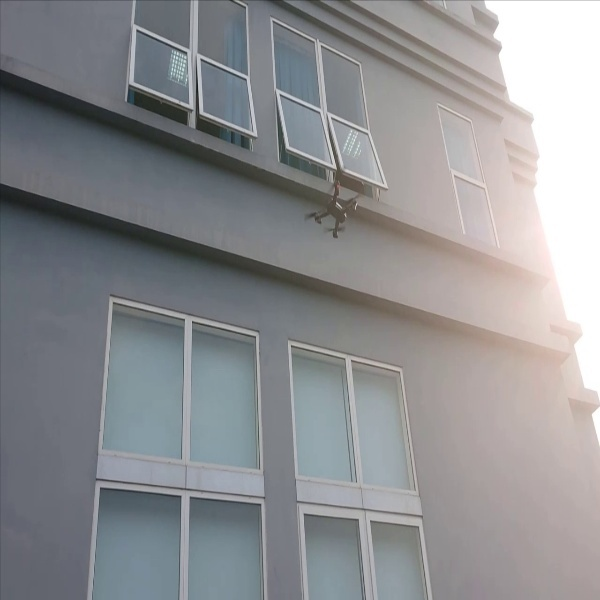drone: (302, 166, 371, 247)
